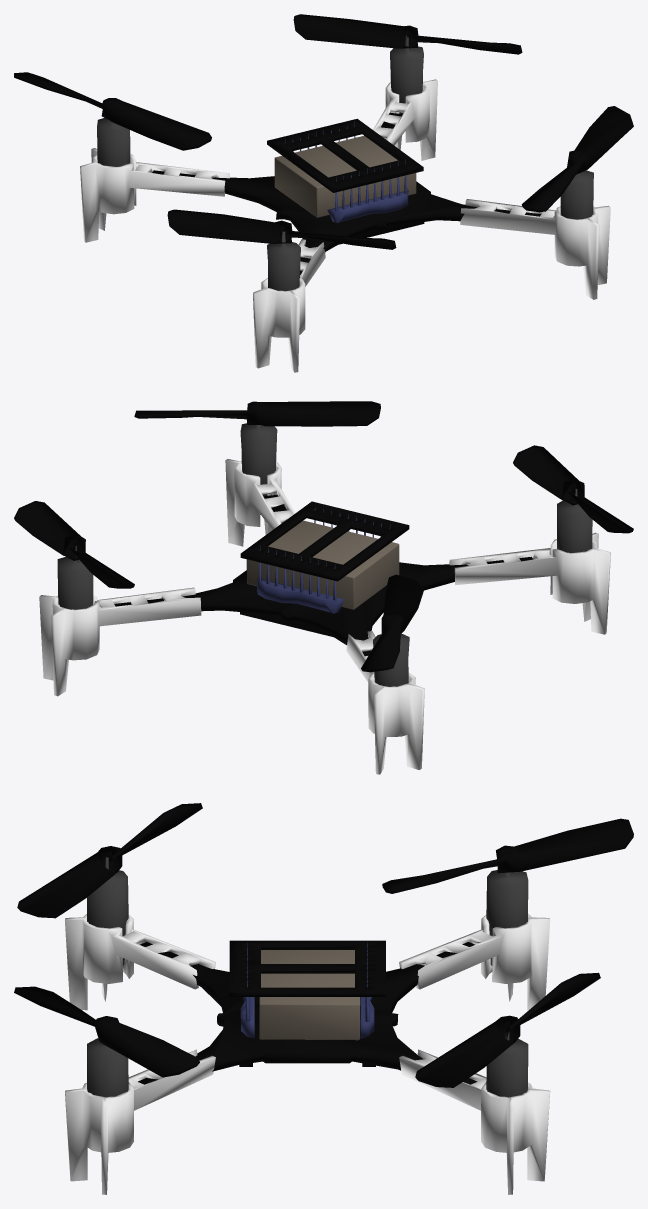
The model's file is drone - Copy.fbx.
The picture shows the model from 3 angles, top to bottom: view 1: azimuth 30°, elevation 25°; view 2: azimuth 150°, elevation 25°; view 3: azimuth 270°, elevation 25°; orthographic projection. The views are drawn at different scales.
Visible parts, largest first — view 1: 7mm motor mount Default sldprt_0, pcb Default sldprt_9, 7x15 motor Default sldprt_1, battery bc-bl-01-a Default sldprt_2, battery holder board Default sldprt_3, propeller ccw Default sldprt.002_6, propeller ccw Default sldprt.003_7, propeller ccw Default sldprt.004_8, propeller ccw Default sldprt.001_5, header Default sldprt_4; view 2: 7mm motor mount Default sldprt_0, pcb Default sldprt_9, 7x15 motor Default sldprt_1, battery bc-bl-01-a Default sldprt_2, battery holder board Default sldprt_3, propeller ccw Default sldprt.001_5, propeller ccw Default sldprt.002_6, propeller ccw Default sldprt.003_7, propeller ccw Default sldprt.004_8, header Default sldprt_4; view 3: 7mm motor mount Default sldprt_0, pcb Default sldprt_9, 7x15 motor Default sldprt_1, battery bc-bl-01-a Default sldprt_2, battery holder board Default sldprt_3, propeller ccw Default sldprt.004_8, propeller ccw Default sldprt.002_6, propeller ccw Default sldprt.003_7, propeller ccw Default sldprt.001_5, header Default sldprt_4.
Boxes of the visible parts, x1,y1,x2,y2 form: 7mm motor mount Default sldprt_0: [80, 79, 610, 372]; pcb Default sldprt_9: [152, 112, 541, 274]; 7x15 motor Default sldprt_1: [97, 35, 593, 291]; battery bc-bl-01-a Default sldprt_2: [274, 135, 416, 217]; battery holder board Default sldprt_3: [267, 118, 423, 192]; propeller ccw Default sldprt.002_6: [293, 14, 522, 54]; propeller ccw Default sldprt.003_7: [167, 209, 396, 249]; propeller ccw Default sldprt.004_8: [14, 72, 211, 150]; propeller ccw Default sldprt.001_5: [521, 106, 633, 212]; header Default sldprt_4: [285, 121, 408, 223]; 7mm motor mount Default sldprt_0: [39, 459, 610, 774]; pcb Default sldprt_9: [114, 494, 533, 656]; 7x15 motor Default sldprt_1: [57, 423, 592, 686]; battery bc-bl-01-a Default sldprt_2: [246, 520, 399, 609]; battery holder board Default sldprt_3: [240, 501, 409, 581]; propeller ccw Default sldprt.001_5: [134, 401, 380, 426]; propeller ccw Default sldprt.002_6: [14, 501, 134, 588]; propeller ccw Default sldprt.003_7: [513, 445, 633, 533]; propeller ccw Default sldprt.004_8: [361, 574, 424, 672]; header Default sldprt_4: [257, 507, 390, 613]; 7mm motor mount Default sldprt_0: [65, 914, 550, 1194]; pcb Default sldprt_9: [138, 942, 477, 1084]; 7x15 motor Default sldprt_1: [87, 857, 528, 1097]; battery bc-bl-01-a Default sldprt_2: [259, 950, 360, 1040]; battery holder board Default sldprt_3: [229, 940, 385, 996]; propeller ccw Default sldprt.004_8: [382, 818, 633, 893]; propeller ccw Default sldprt.002_6: [415, 972, 600, 1087]; propeller ccw Default sldprt.003_7: [17, 803, 202, 918]; propeller ccw Default sldprt.001_5: [14, 986, 199, 1077]; header Default sldprt_4: [240, 942, 374, 1038].
Size of the model in its own units: 15.1 by 4.37 by 14.94.
